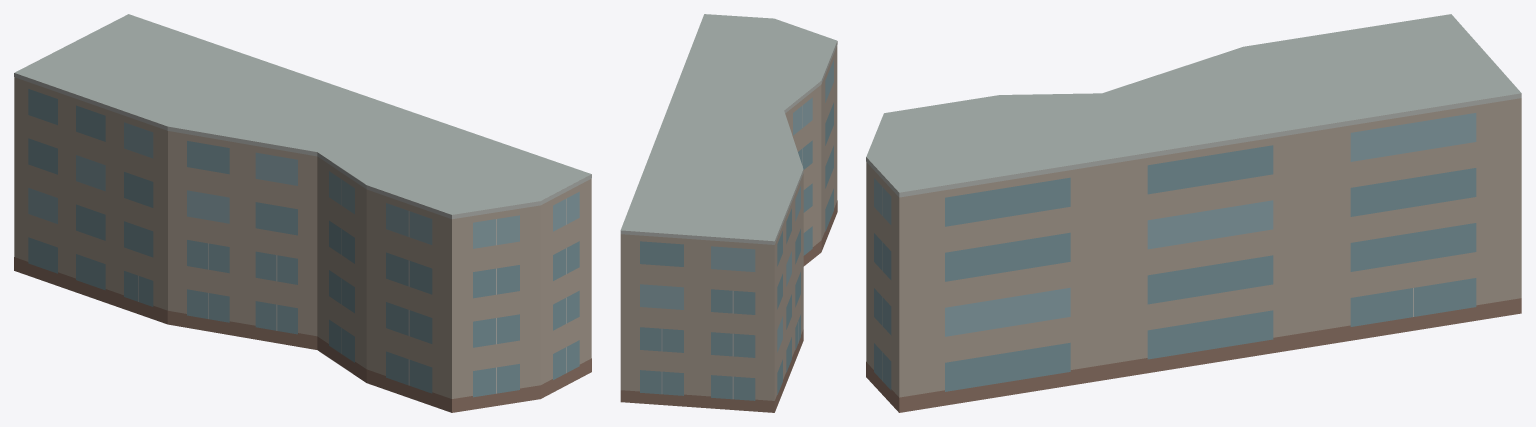
File: survey-upis-32732758.glb
The picture shows the model from 3 angles, left to right: view 1: azimuth 30°, elevation 25°; view 2: azimuth 150°, elevation 25°; view 3: azimuth 270°, elevation 25°; orthographic projection. The views are drawn at different scales.
Visible parts, largest first — view 1: survey-upis-32732758.tmp; view 2: survey-upis-32732758.tmp; view 3: survey-upis-32732758.tmp.
Boxes of the visible parts, x1,y1,x2,y2 form: survey-upis-32732758.tmp: [14, 14, 591, 412]; survey-upis-32732758.tmp: [620, 14, 837, 412]; survey-upis-32732758.tmp: [866, 14, 1521, 412].
Size of the model in its own units: 19.57 by 11.23 by 30.32.
